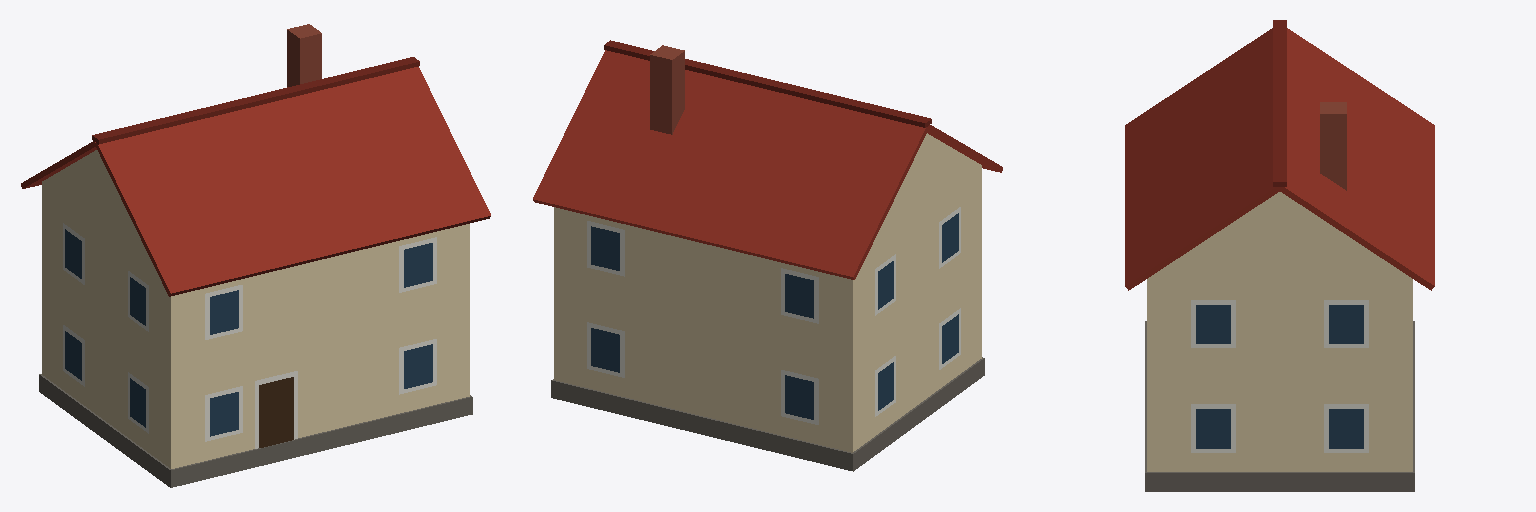
URDF robot description (house_01):
<?xml version="1.0" encoding="utf-8"?>
<!-- Generated by tools/generate_assets.py -->
<robot name="house_01">
  <link name="base_link">
    <inertial>
      <mass value="0" />
      <inertia ixx="0" ixy="0" ixz="0" iyy="0" iyz="0" izz="0" />
    </inertial>
    <visual name="part_0">
      <geometry><mesh filename="meshes/house_01_v0.obj" /></geometry>
      <material name="house_01_0"><color rgba="0.45 0.43 0.4 1" /></material>
    </visual>
    <visual name="part_1">
      <geometry><mesh filename="meshes/house_01_v1.obj" /></geometry>
      <material name="house_01_1"><color rgba="0.88 0.82 0.68 1" /></material>
    </visual>
    <visual name="part_2">
      <geometry><mesh filename="meshes/house_01_v2.obj" /></geometry>
      <material name="house_01_2"><color rgba="0.58 0.23 0.18 1" /></material>
    </visual>
    <visual name="part_3">
      <geometry><mesh filename="meshes/house_01_v3.obj" /></geometry>
      <material name="house_01_3"><color rgba="0.464 0.184 0.144 1" /></material>
    </visual>
    <visual name="part_4">
      <geometry><mesh filename="meshes/house_01_v4.obj" /></geometry>
      <material name="house_01_4"><color rgba="0.55 0.3 0.24 1" /></material>
    </visual>
    <visual name="part_5">
      <geometry><mesh filename="meshes/house_01_v5.obj" /></geometry>
      <material name="house_01_5"><color rgba="0.3 0.22 0.15 1" /></material>
    </visual>
    <visual name="part_6">
      <geometry><mesh filename="meshes/house_01_v6.obj" /></geometry>
      <material name="house_01_6"><color rgba="0.9 0.89 0.85 1" /></material>
    </visual>
    <visual name="part_7">
      <geometry><mesh filename="meshes/house_01_v7.obj" /></geometry>
      <material name="house_01_7"><color rgba="0.2 0.3 0.38 1" /></material>
    </visual>
    <collision name="hull_0">
      <geometry><mesh filename="meshes/house_01_c0.obj" /></geometry>
    </collision>
    <collision name="hull_1">
      <geometry><mesh filename="meshes/house_01_c1.obj" /></geometry>
    </collision>
    <collision name="hull_2">
      <geometry><mesh filename="meshes/house_01_c2.obj" /></geometry>
    </collision>
    <collision name="hull_3">
      <geometry><mesh filename="meshes/house_01_c3.obj" /></geometry>
    </collision>
  </link>
</robot>

--- Facts derived from the render (not from the file) ---
The picture shows the robot from 3 angles, left to right: view 1: azimuth 30°, elevation 25°; view 2: azimuth 150°, elevation 25°; view 3: azimuth 270°, elevation 25°; orthographic projection.
Robot: house_01 — 1 links, 0 joints (none); root link base_link; default pose: every joint at zero.
Links seen in each view (by area): view 1: base_link; view 2: base_link; view 3: base_link.
Link boxes in pixels (bbox=[...]): base_link: bbox=[21, 24, 490, 487]; base_link: bbox=[533, 40, 1002, 471]; base_link: bbox=[1125, 20, 1434, 491].
Size in the robot's own frame: 8.62 by 6.98 by 8.58 metres.
Meshes: 8 distinct files referenced, 8 mesh visuals loaded (8 OBJ).
